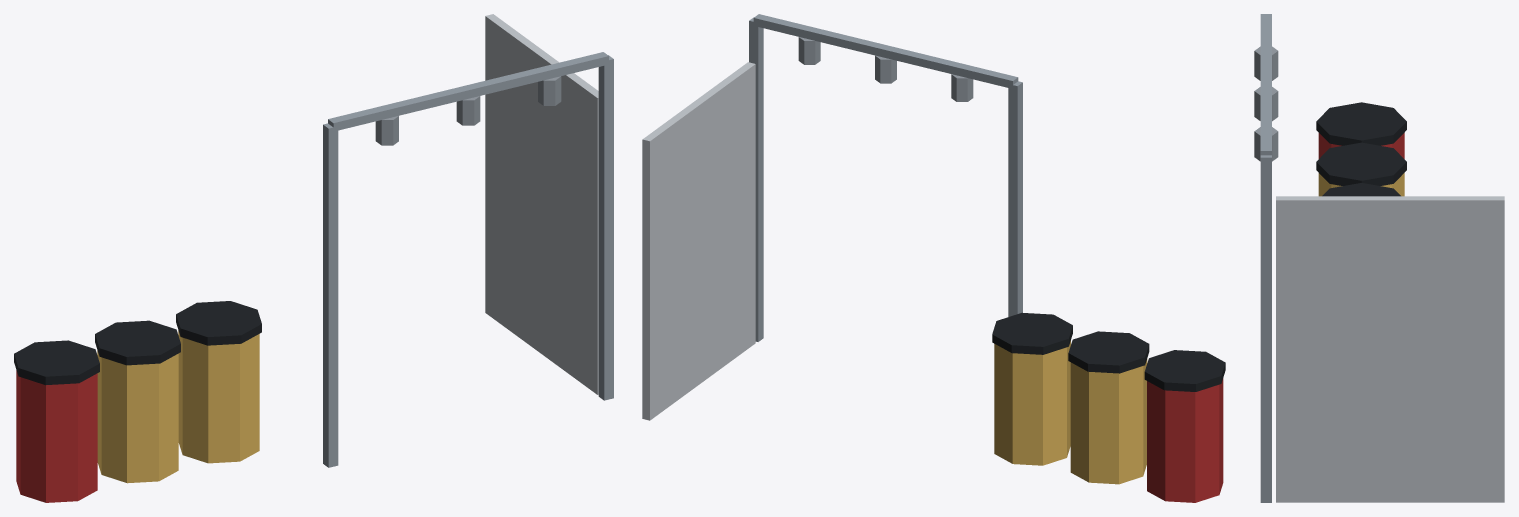
File: env_carrier_decon.fbx
3 renders of one model, left to right at view 1: azimuth 30°, elevation 25°; view 2: azimuth 150°, elevation 25°; view 3: azimuth 270°, elevation 25°, orthographic. The views are drawn at different scales.
Parts seen in each view (by area): view 1: env_carrier_decon; view 2: env_carrier_decon; view 3: env_carrier_decon.
Boxes of the visible parts, left/top/right/bottom form: env_carrier_decon: left=14, top=14, right=613, bottom=502; env_carrier_decon: left=642, top=14, right=1225, bottom=502; env_carrier_decon: left=1254, top=14, right=1504, bottom=502.
Bounding box in the file's own units: 1347 × 810 × 525.
